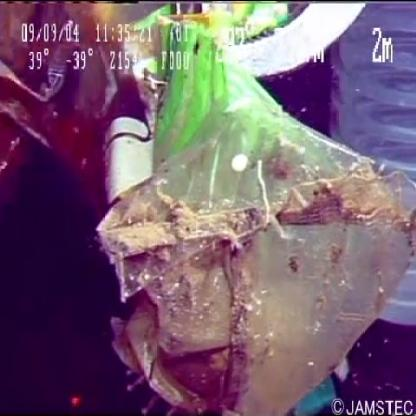Rác: (87, 9, 410, 416)
